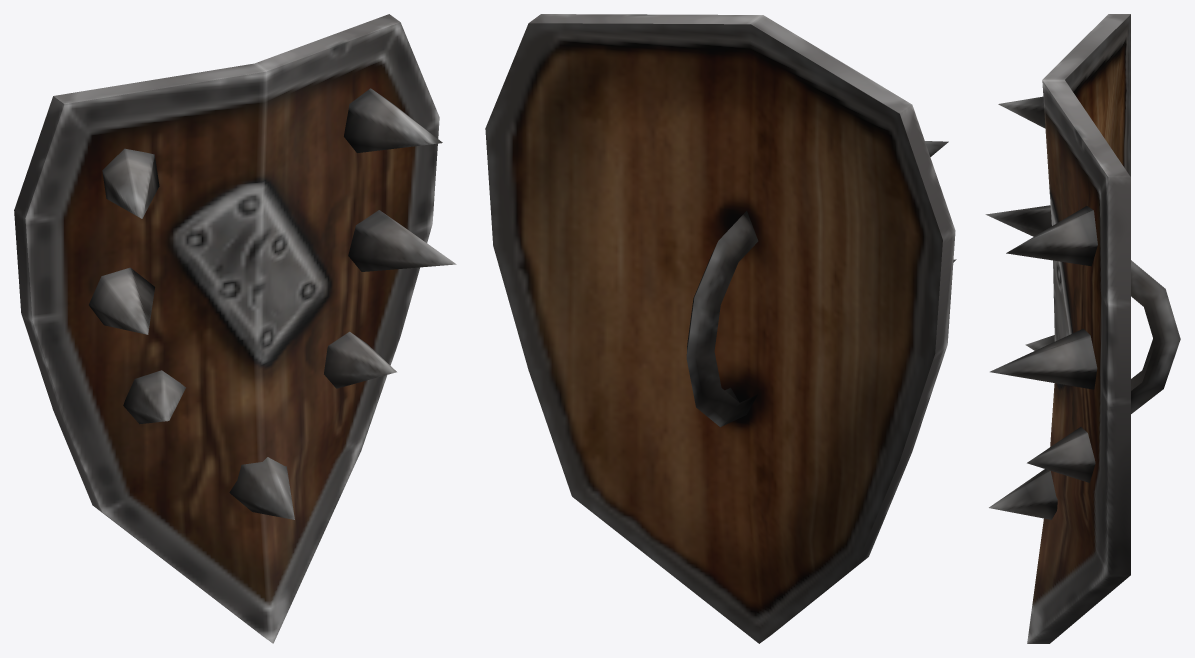
File: Shield_lvl2.fbx
3 renders of one model, left to right at view 1: azimuth 30°, elevation 25°; view 2: azimuth 150°, elevation 25°; view 3: azimuth 270°, elevation 25°, orthographic. The views are drawn at different scales.
Visible parts, largest first — view 1: Shield_lvl2; view 2: Shield_lvl2; view 3: Shield_lvl2.
Part boxes in pixels (bbox=[...]): Shield_lvl2: bbox=[14, 14, 456, 643]; Shield_lvl2: bbox=[485, 14, 956, 643]; Shield_lvl2: bbox=[985, 14, 1180, 643].
Bounding box in the file's own units: 49.83 × 65.13 × 20.45.
